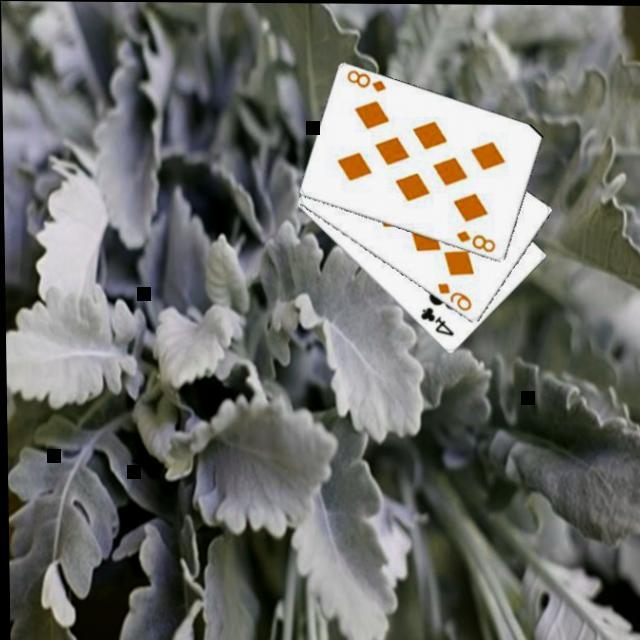4C: (416, 302, 456, 336)
8D: (452, 225, 498, 253), (344, 64, 390, 92)
9D: (434, 277, 474, 311)
